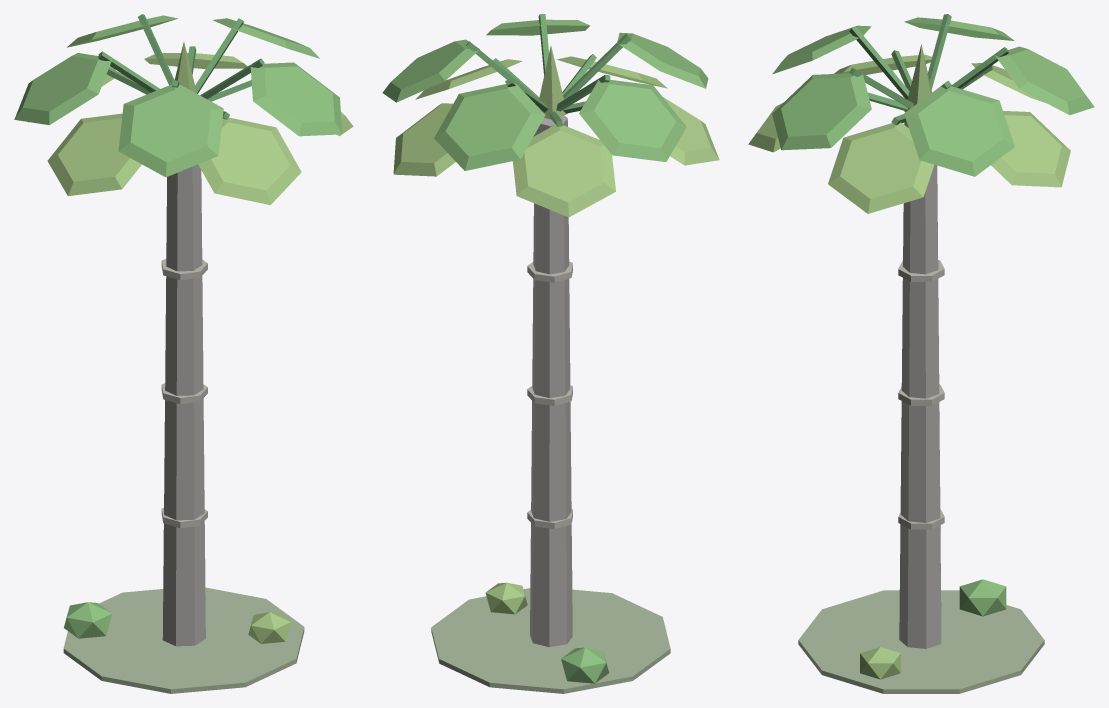
Rendered from vegetacao__buriti.glb.
3 views of the same model, side by side, from view 1: azimuth 30°, elevation 25°; view 2: azimuth 150°, elevation 25°; view 3: azimuth 270°, elevation 25° (orthographic).
Visible parts, largest first — view 1: vegetacao__buriti; view 2: vegetacao__buriti; view 3: vegetacao__buriti.
Part boxes in pixels (box(x1,y1,x2,y2)): vegetacao__buriti: box(14, 14, 353, 693); vegetacao__buriti: box(382, 14, 719, 693); vegetacao__buriti: box(748, 14, 1094, 693).
Bounding box in the file's own units: 0.9648 × 1.95 × 1.01.
